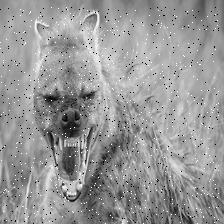hyena: (0, 7, 219, 224)
